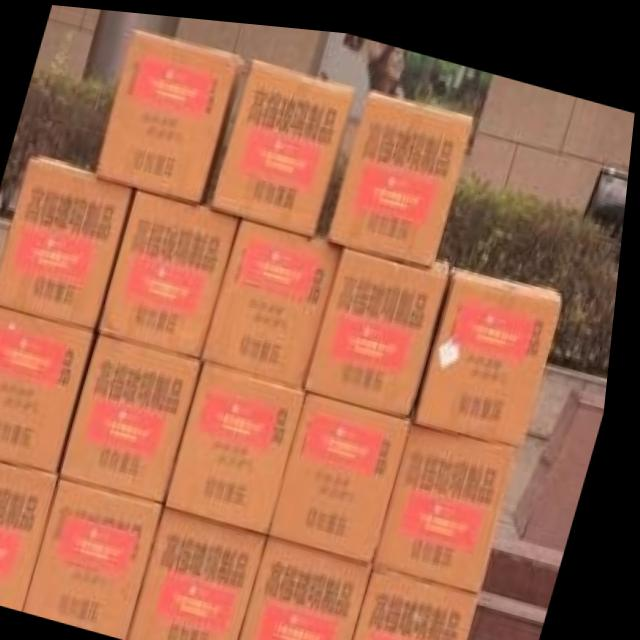box: (212, 50, 358, 233), (97, 23, 247, 199), (421, 259, 567, 435), (332, 82, 476, 257), (280, 383, 419, 557), (383, 413, 526, 582), (208, 211, 349, 382), (312, 241, 455, 408), (175, 356, 312, 528), (103, 187, 243, 355), (70, 329, 208, 497), (0, 154, 135, 325), (36, 474, 172, 637), (140, 504, 277, 640), (0, 305, 100, 473), (250, 530, 384, 640), (364, 554, 492, 640), (0, 455, 68, 610)
